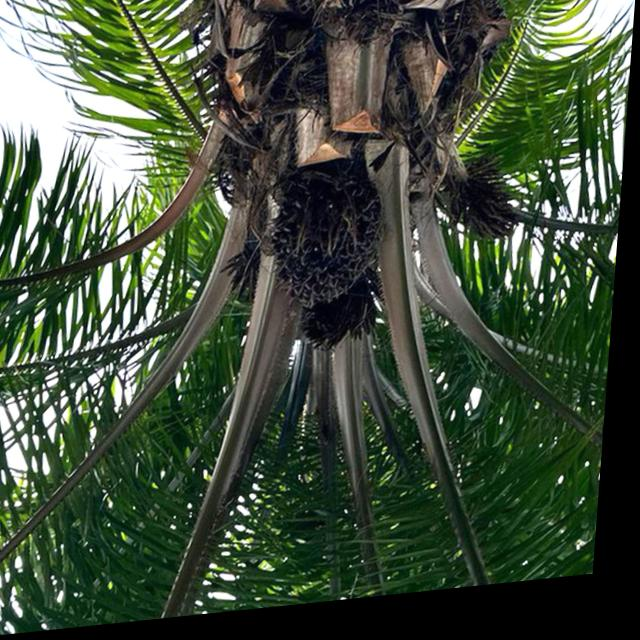ripe: (241, 156, 423, 340)
